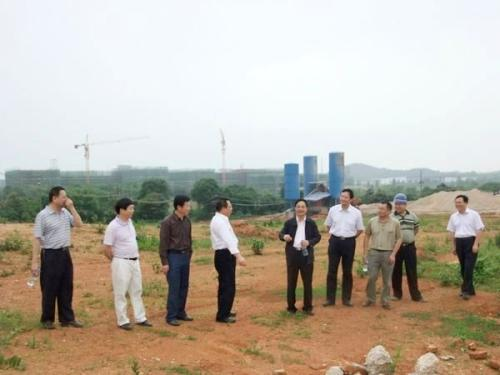boots: (216, 315, 236, 323), (61, 320, 82, 327), (135, 320, 152, 327), (166, 318, 180, 326), (42, 321, 55, 329), (118, 323, 132, 330), (177, 315, 193, 321), (362, 299, 375, 306), (341, 299, 353, 306), (322, 301, 335, 307), (302, 309, 314, 315), (287, 305, 297, 312), (382, 302, 391, 309), (390, 296, 401, 300)
person: (31, 186, 84, 329), (103, 197, 153, 330), (277, 199, 321, 316), (322, 188, 365, 306), (158, 193, 194, 325), (209, 198, 247, 323), (362, 200, 403, 309), (446, 195, 485, 300), (389, 192, 424, 302)
